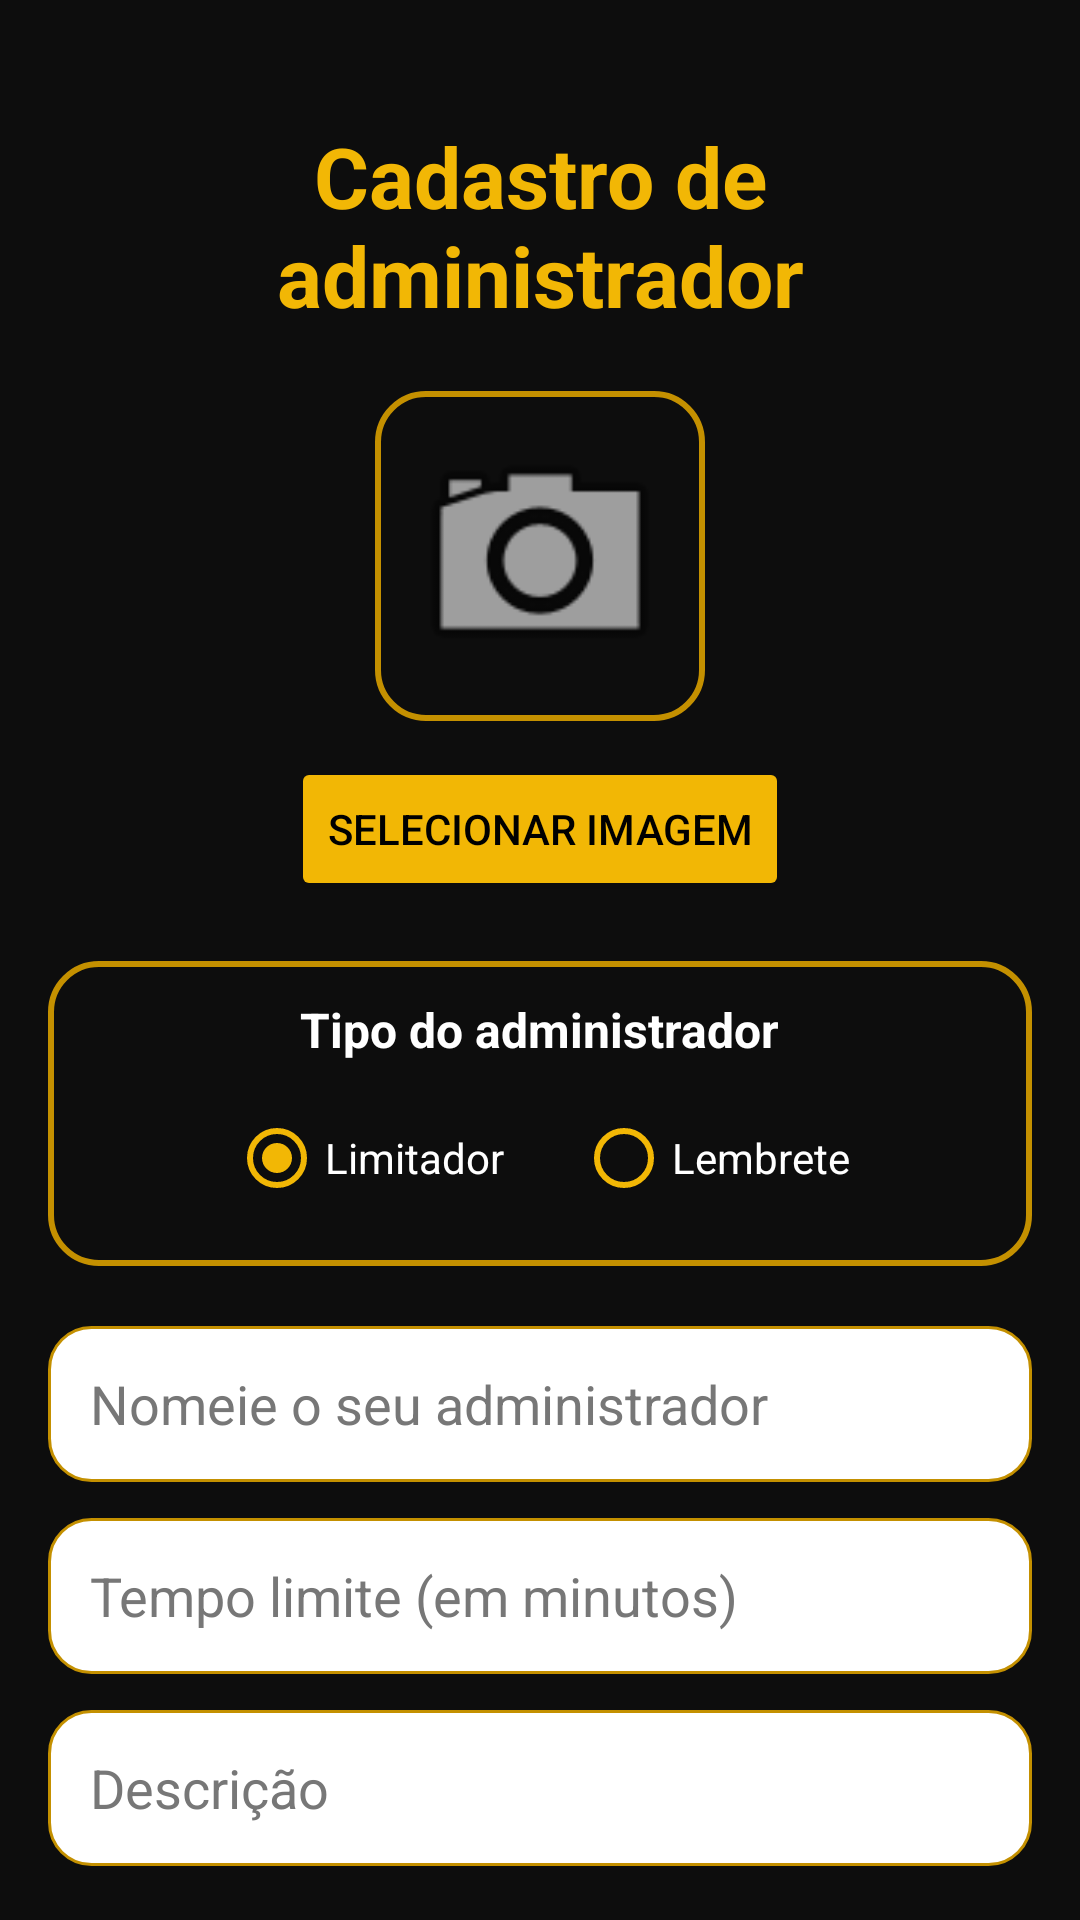

Icons on this 1080w x 1920h Android screen, each with its box as (x1, y1, x2, y2):
camera: (375, 391, 705, 721)
